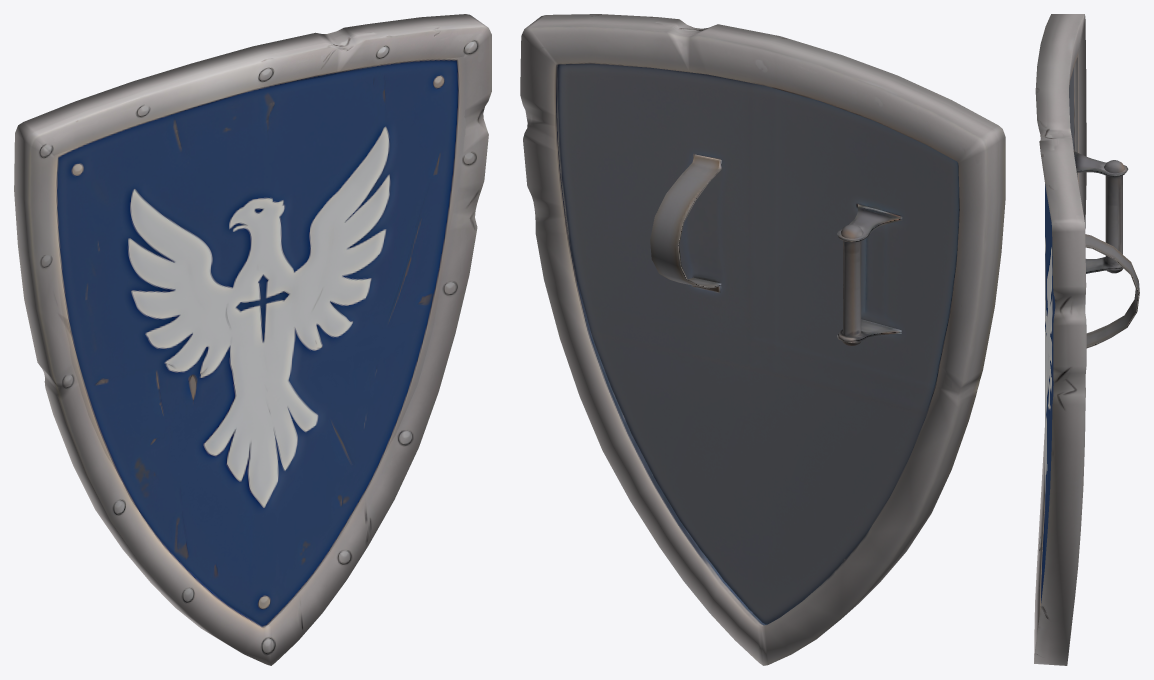
Rendered from medieval_shield_3d_model.fbx.
3 renders of one model, left to right at view 1: azimuth 30°, elevation 25°; view 2: azimuth 150°, elevation 25°; view 3: azimuth 270°, elevation 25°, orthographic. The views are drawn at different scales.
Parts seen in each view (by area): view 1: tripo_304c3422_f6b3_4567_a380_fdc4c1fa352e; view 2: tripo_304c3422_f6b3_4567_a380_fdc4c1fa352e; view 3: tripo_304c3422_f6b3_4567_a380_fdc4c1fa352e.
Boxes of the visible parts, x1=… form: tripo_304c3422_f6b3_4567_a380_fdc4c1fa352e: x1=14, y1=14, x2=491, y2=665; tripo_304c3422_f6b3_4567_a380_fdc4c1fa352e: x1=520, y1=14, x2=1005, y2=665; tripo_304c3422_f6b3_4567_a380_fdc4c1fa352e: x1=1034, y1=14, x2=1139, y2=665.
Bounding box in the file's own units: 0.7935 × 0.9995 × 0.1665.
1 material, 1 textured.
